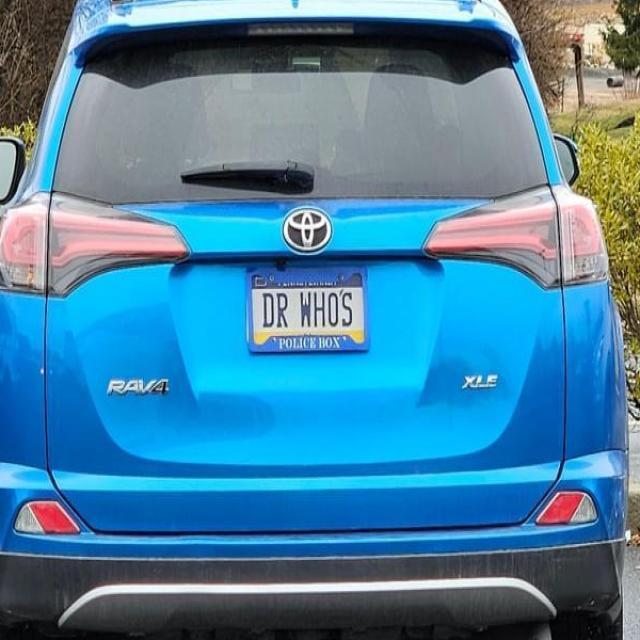license-plate: (241, 273, 379, 428)
